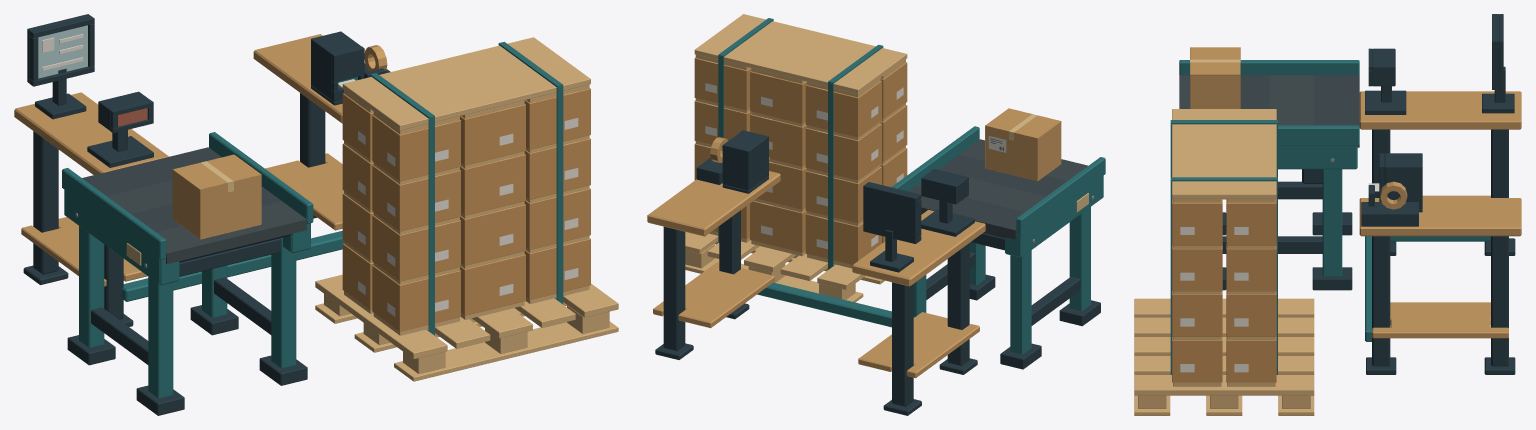
Rendered from shipper-workcell-fixture.glb.
3 renders of one model, left to right at view 1: azimuth 30°, elevation 25°; view 2: azimuth 150°, elevation 25°; view 3: azimuth 270°, elevation 25°, orthographic. The views are drawn at different scales.
Parts seen in each view (by area): view 1: shipper-workcell-fixture__batch_15, shipper-workcell-fixture__batch_14, shipper-workcell-fixture__batch_21, shipper-workcell-fixture__batch_02, shipper-workcell-fixture__batch_20, shipper-workcell-fixture__batch_00, shipper-workcell-fixture__batch_19, shipper-workcell-fixture__batch_17, shipper-workcell-fixture__batch_13, shipper-workcell-fixture__batch_18, shipper-workcell-fixture__batch_08, shipper-workcell-fixture__batch_06 (+5 smaller); view 2: shipper-workcell-fixture__batch_15, shipper-workcell-fixture__batch_14, shipper-workcell-fixture__batch_02, shipper-workcell-fixture__batch_21, shipper-workcell-fixture__batch_00, shipper-workcell-fixture__batch_18, shipper-workcell-fixture__batch_08, shipper-workcell-fixture__batch_20, shipper-workcell-fixture__batch_17, shipper-workcell-fixture__batch_04, shipper-workcell-fixture__batch_06, shipper-workcell-fixture__batch_13 (+4 smaller); view 3: shipper-workcell-fixture__batch_14, shipper-workcell-fixture__batch_15, shipper-workcell-fixture__batch_02, shipper-workcell-fixture__batch_21, shipper-workcell-fixture__batch_00, shipper-workcell-fixture__batch_20, shipper-workcell-fixture__batch_18, shipper-workcell-fixture__batch_19, shipper-workcell-fixture__batch_06, shipper-workcell-fixture__batch_13, shipper-workcell-fixture__batch_04, shipper-workcell-fixture__batch_16 (+5 smaller).
Part boxes in pixels (x1,y1,x2,y2): shipper-workcell-fixture__batch_15: [342, 88, 590, 331]; shipper-workcell-fixture__batch_14: [315, 37, 618, 381]; shipper-workcell-fixture__batch_21: [62, 132, 313, 398]; shipper-workcell-fixture__batch_02: [14, 34, 343, 286]; shipper-workcell-fixture__batch_20: [67, 233, 307, 415]; shipper-workcell-fixture__batch_00: [23, 93, 325, 326]; shipper-workcell-fixture__batch_19: [107, 180, 306, 264]; shipper-workcell-fixture__batch_17: [173, 154, 261, 238]; shipper-workcell-fixture__batch_13: [370, 41, 563, 335]; shipper-workcell-fixture__batch_18: [82, 147, 281, 231]; shipper-workcell-fixture__batch_08: [27, 14, 94, 119]; shipper-workcell-fixture__batch_06: [87, 91, 153, 167]; shipper-workcell-fixture__batch_15: [694, 57, 907, 264]; shipper-workcell-fixture__batch_14: [685, 14, 907, 302]; shipper-workcell-fixture__batch_02: [647, 171, 985, 378]; shipper-workcell-fixture__batch_21: [891, 126, 1105, 354]; shipper-workcell-fixture__batch_00: [655, 210, 977, 415]; shipper-workcell-fixture__batch_18: [909, 155, 1066, 239]; shipper-workcell-fixture__batch_08: [863, 182, 921, 272]; shipper-workcell-fixture__batch_20: [926, 232, 1100, 369]; shipper-workcell-fixture__batch_17: [985, 108, 1061, 180]; shipper-workcell-fixture__batch_04: [722, 130, 768, 193]; shipper-workcell-fixture__batch_06: [921, 169, 974, 236]; shipper-workcell-fixture__batch_13: [718, 18, 883, 269]; shipper-workcell-fixture__batch_14: [1134, 109, 1314, 415]; shipper-workcell-fixture__batch_15: [1172, 199, 1276, 382]; shipper-workcell-fixture__batch_02: [1359, 91, 1521, 338]; shipper-workcell-fixture__batch_21: [1179, 60, 1359, 276]; shipper-workcell-fixture__batch_00: [1366, 129, 1515, 374]; shipper-workcell-fixture__batch_20: [1222, 169, 1352, 290]; shipper-workcell-fixture__batch_18: [1240, 75, 1359, 147]; shipper-workcell-fixture__batch_19: [1179, 75, 1314, 125]; shipper-workcell-fixture__batch_06: [1365, 48, 1406, 114]; shipper-workcell-fixture__batch_13: [1170, 120, 1277, 374]; shipper-workcell-fixture__batch_04: [1379, 153, 1422, 212]; shipper-workcell-fixture__batch_16: [1190, 74, 1240, 108].
Bounding box in the file's own units: 2.54 × 1.4 × 2.15.
